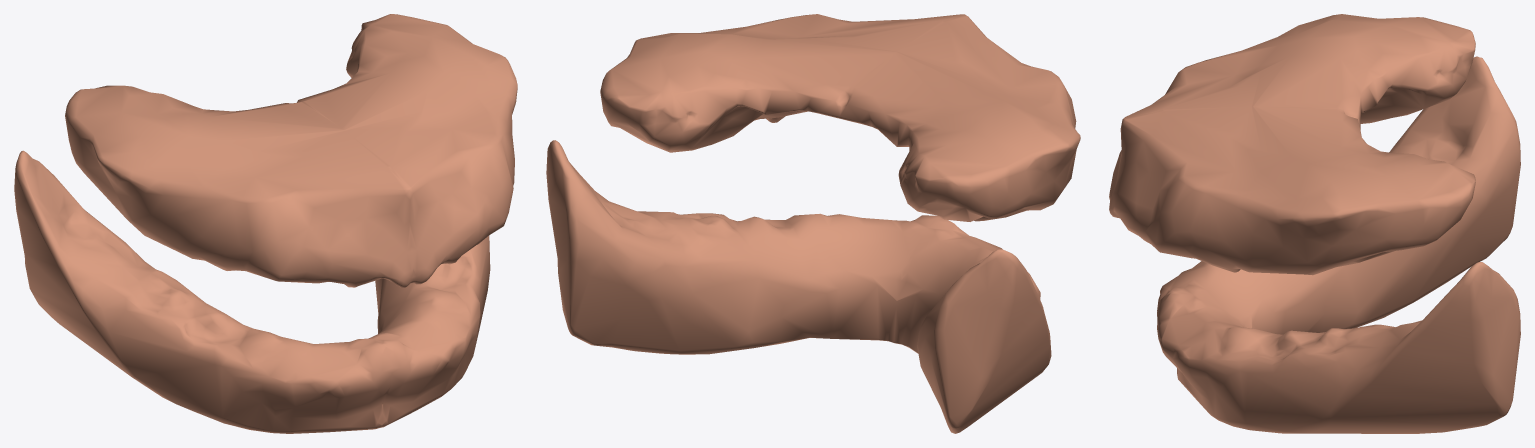
File: gingiva.glb
3 views of the same model, side by side, from view 1: azimuth 30°, elevation 25°; view 2: azimuth 150°, elevation 25°; view 3: azimuth 270°, elevation 25° (orthographic). The views are drawn at different scales.
Visible parts, largest first — view 1: Gingiva; view 2: Gingiva; view 3: Gingiva.
Boxes of the visible parts, left/top/right/bottom form: Gingiva: left=14, top=14, right=517, bottom=433; Gingiva: left=546, top=14, right=1080, bottom=433; Gingiva: left=1109, top=14, right=1520, bottom=433.
Size of the model in its own units: 0.0736 by 0.0444 by 0.059.
